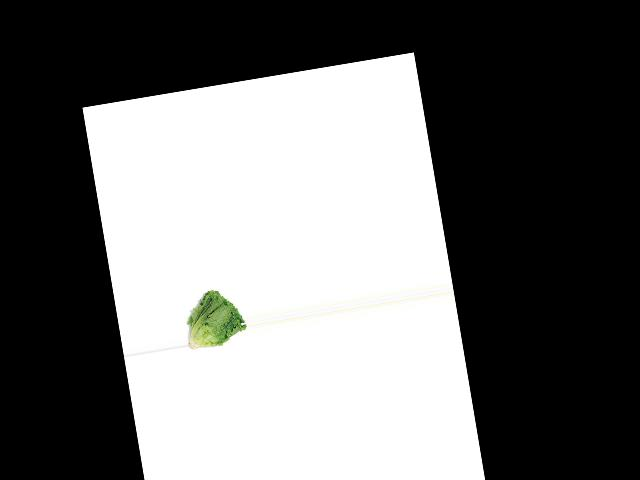lettuce: (177, 280, 249, 355)
